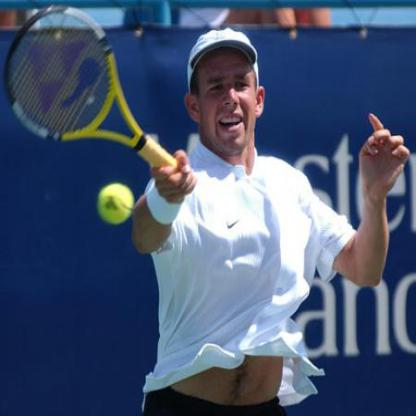face: (197, 32, 259, 155)
